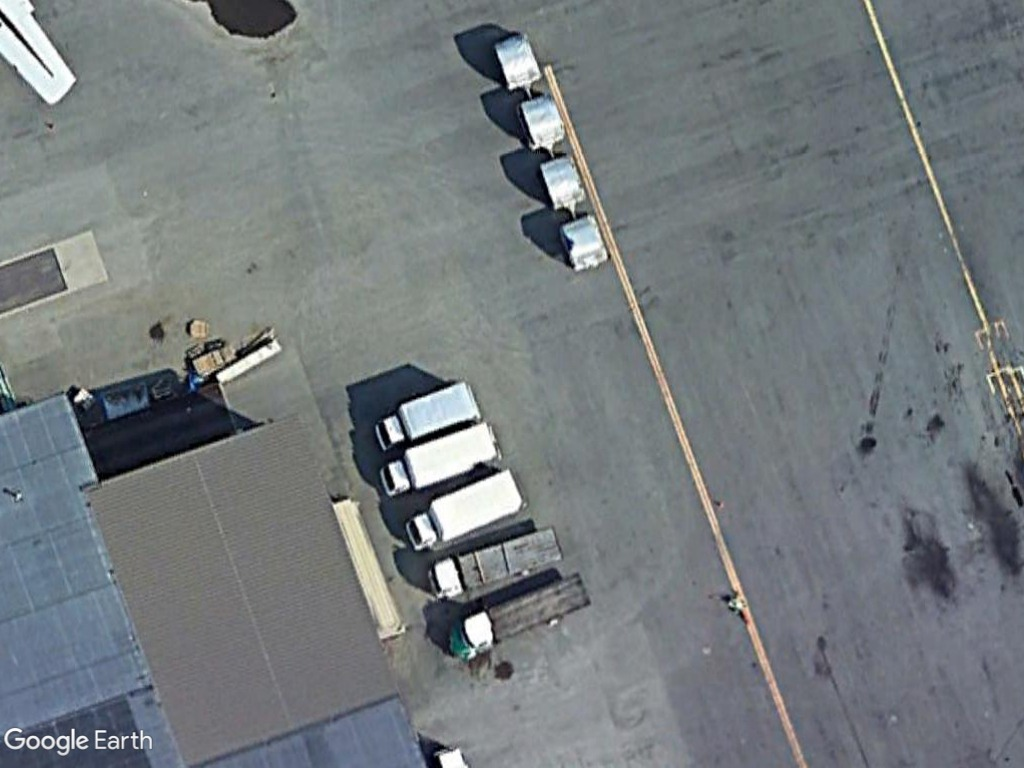other: (440, 562, 593, 664), (416, 519, 565, 602)
truck: (403, 466, 527, 552), (376, 418, 503, 499), (370, 375, 487, 456)
